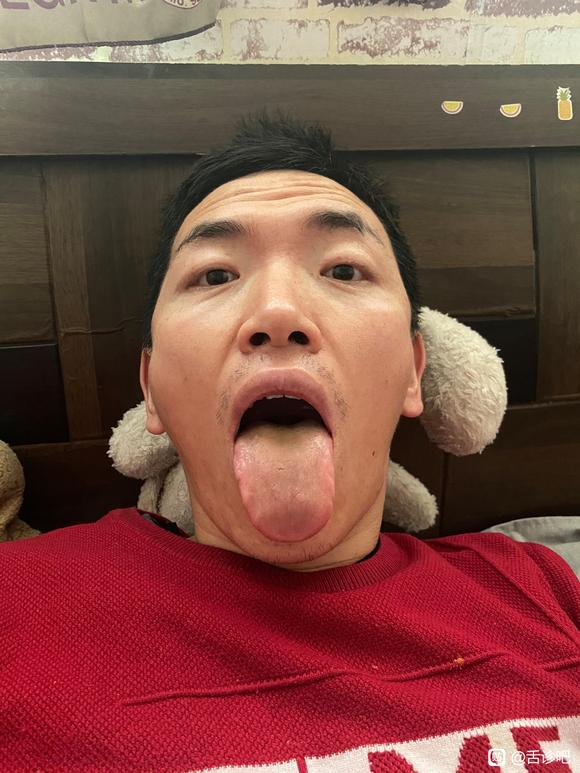hongshe: (234, 425, 336, 541)
huangtaishe: (234, 425, 336, 541)
